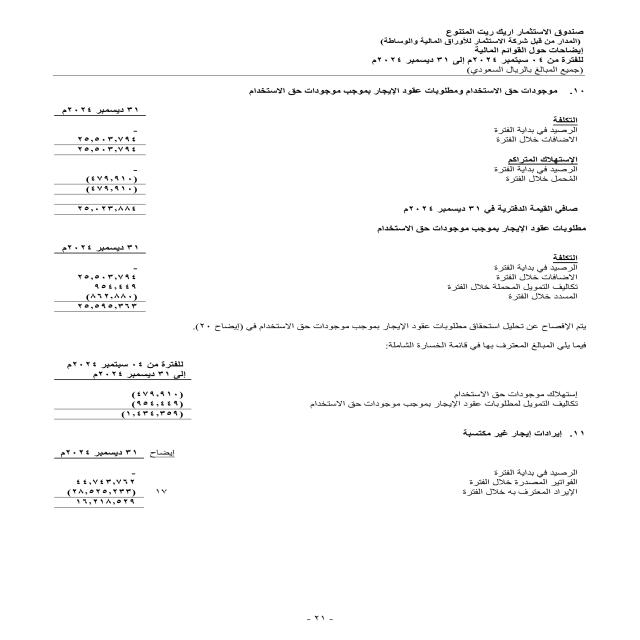notes: (472, 46, 594, 55)
table: (36, 95, 168, 324), (32, 354, 220, 428), (20, 443, 184, 517)
